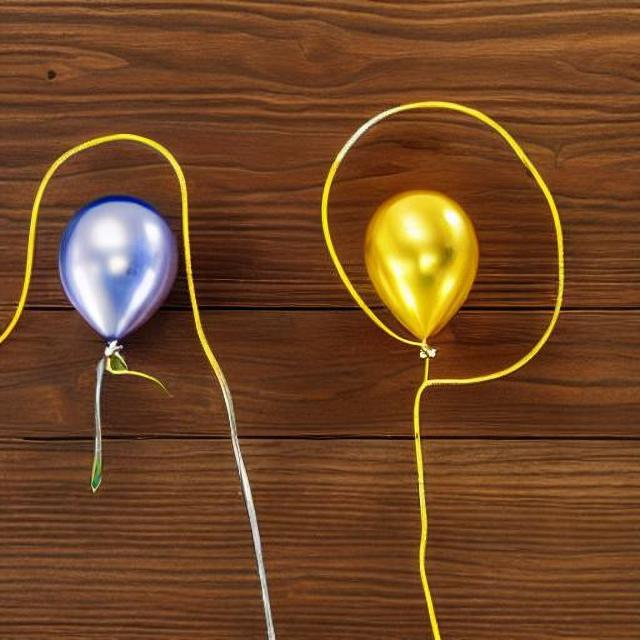balloon: (366, 172, 474, 620), (51, 161, 179, 481)
